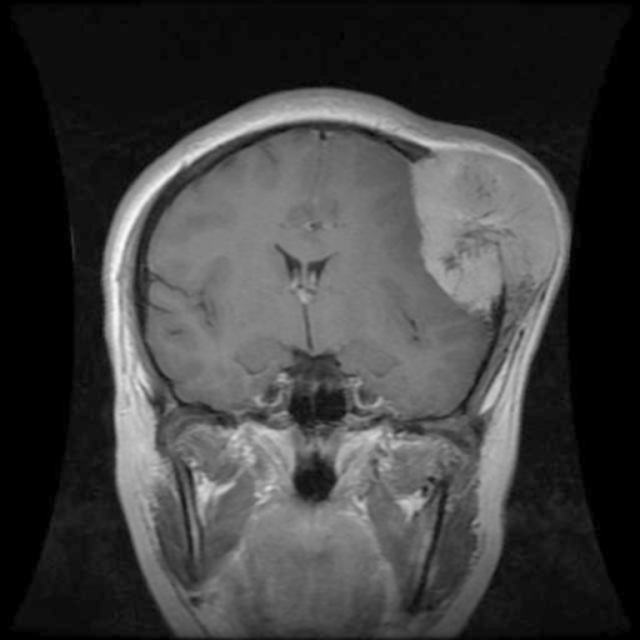meningioma tumor: (403, 135, 565, 317)
